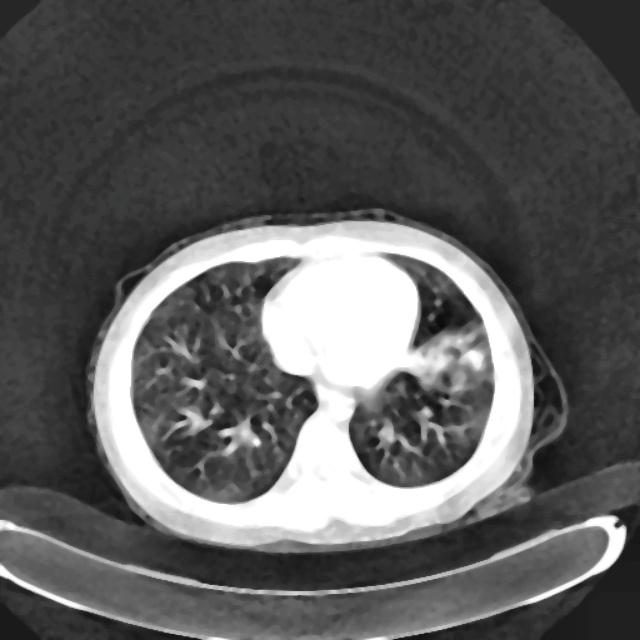covid: (85, 207, 559, 553)
